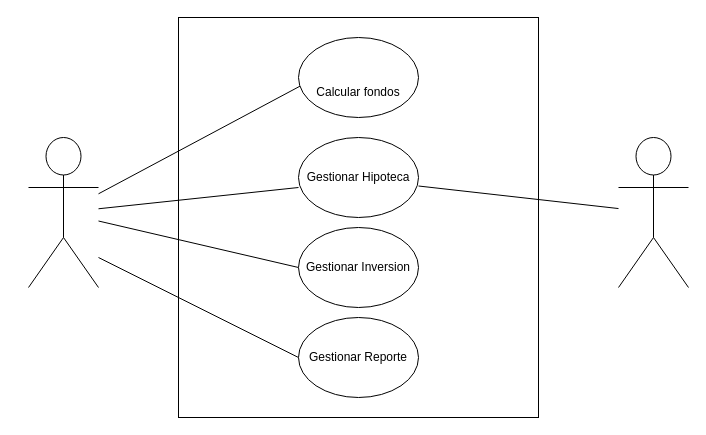
Image size: 706x435. Some labels were removed from this diagram. Here are the shapes that lost their labels. From the top down, the centre of each, then its label:
At point 63,212: "Empleado MSGF".
At point 653,212: "Deudor".
